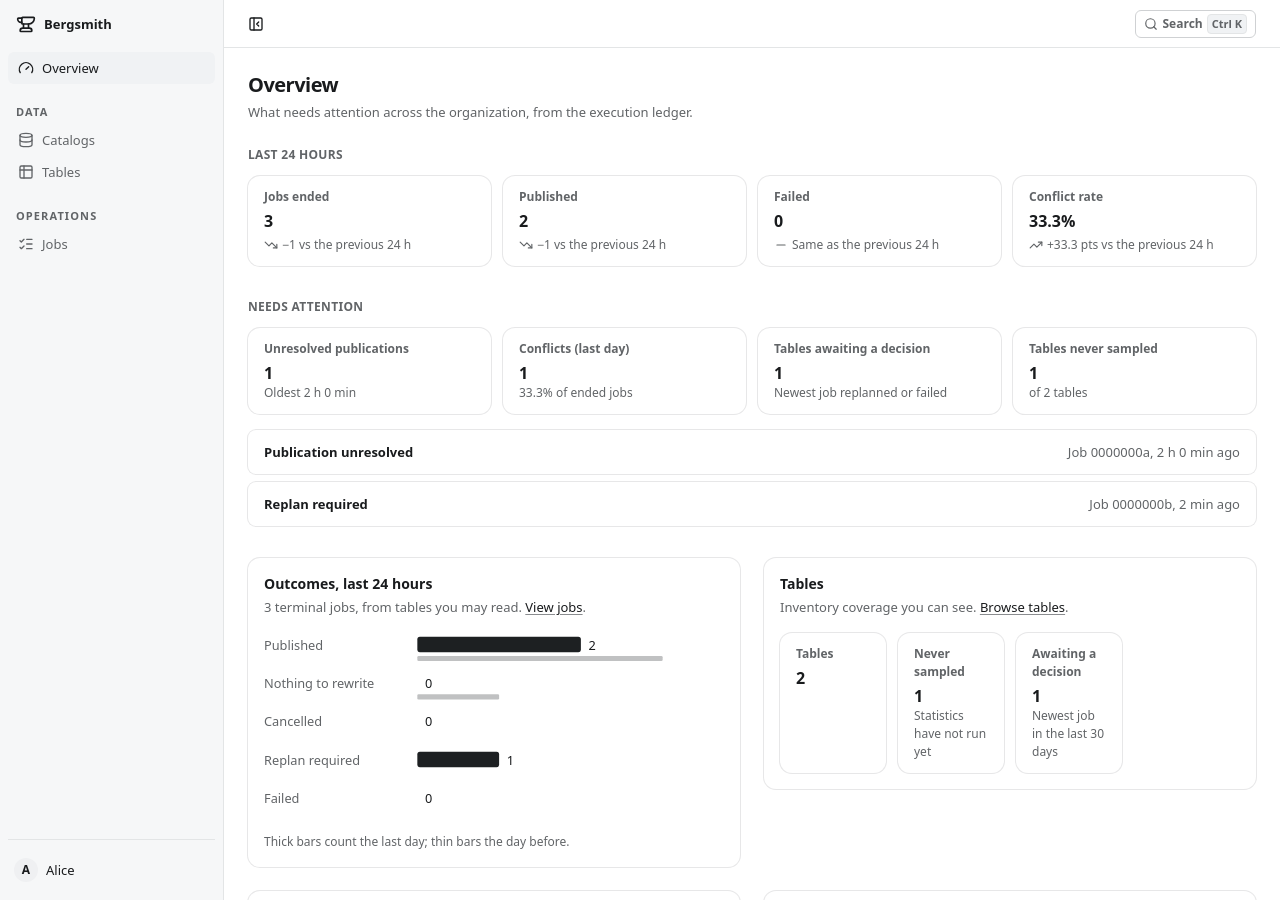
it: says when nothing matches and shows a failed search
Check: the heading "Overview" is shown, box [248, 71, 338, 98]
Type keys "{Control>}k{/Control}"
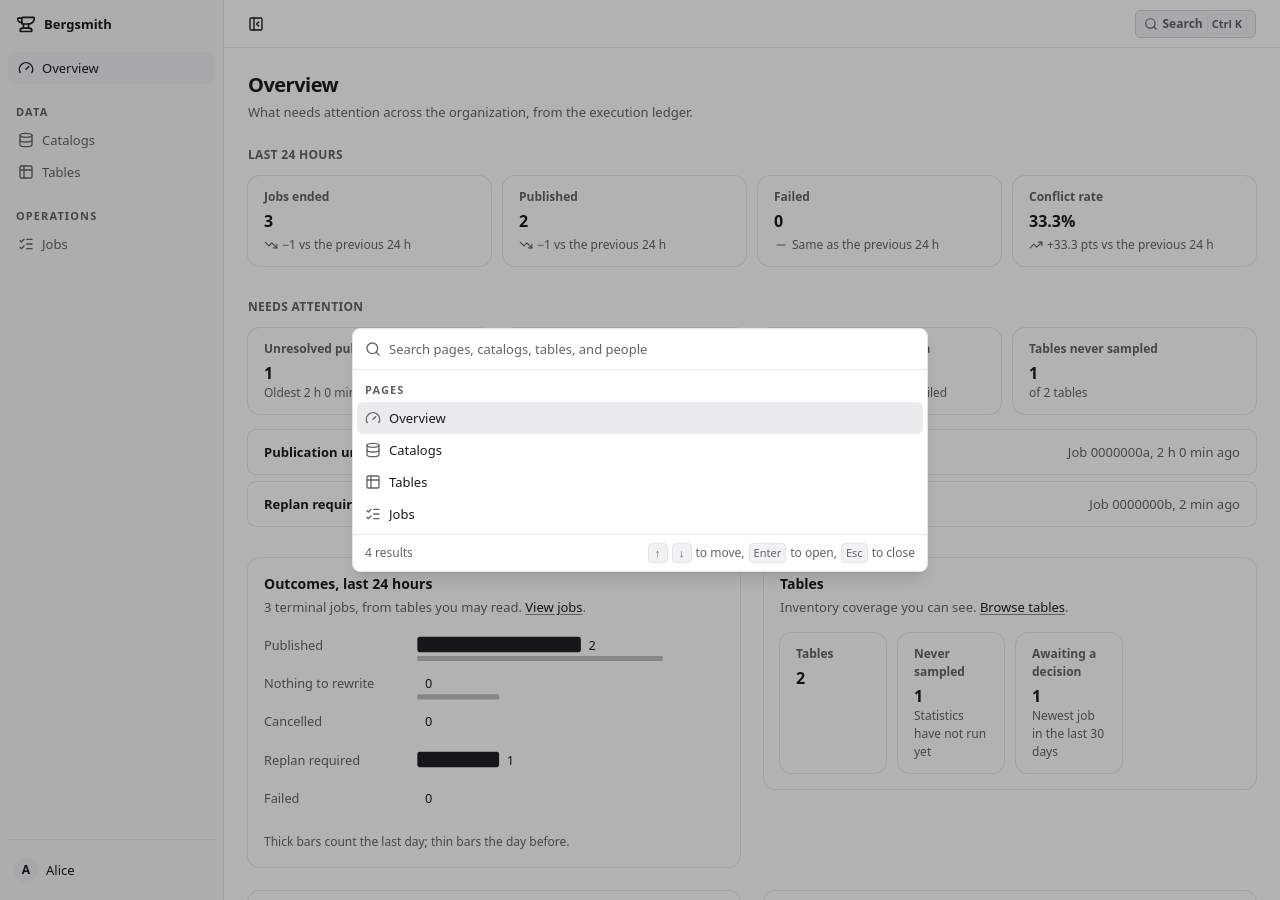
In the dropdown labelled "Search pages, catalogs, tables, and people": (652, 349) [389, 329, 915, 369], type "zzz"
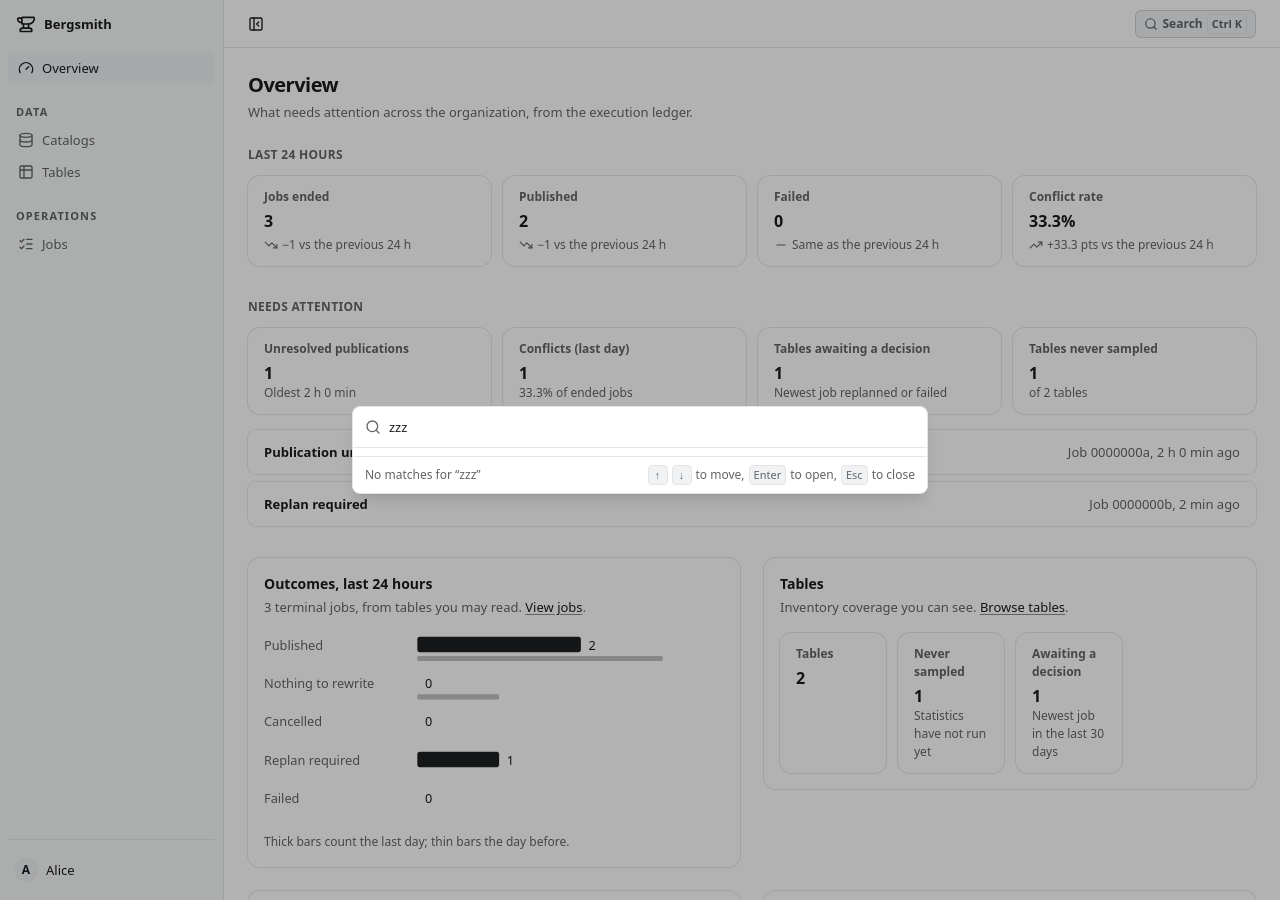
Check: the message reads "No matches for “zzz”", box [365, 466, 481, 483]
In the dropdown named "Search pages, catalogs, tables, and people": (652, 427) [389, 407, 915, 447], type "z"
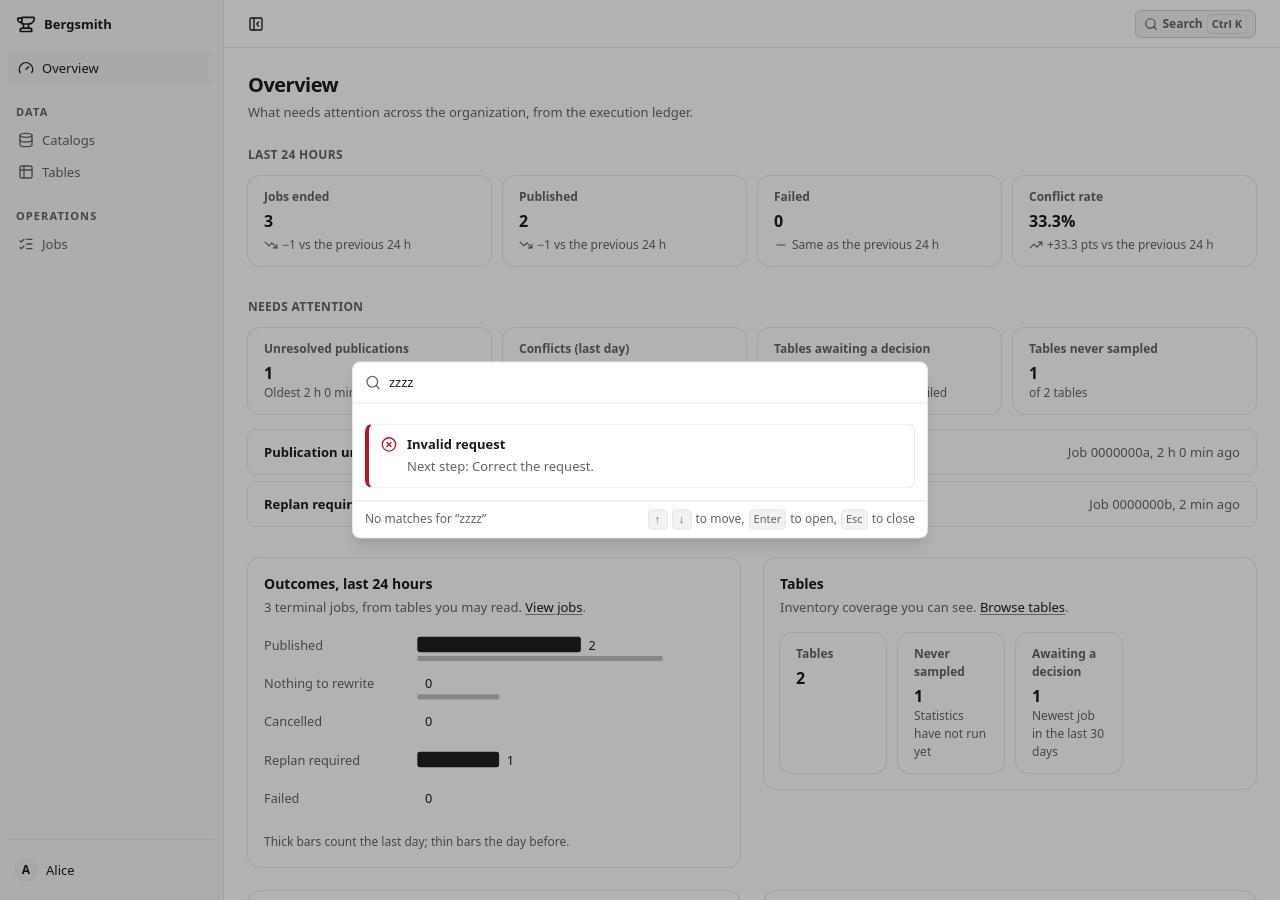
Check: the message "Invalid request Next step: Correct the request." is shown, box [365, 423, 915, 488]
